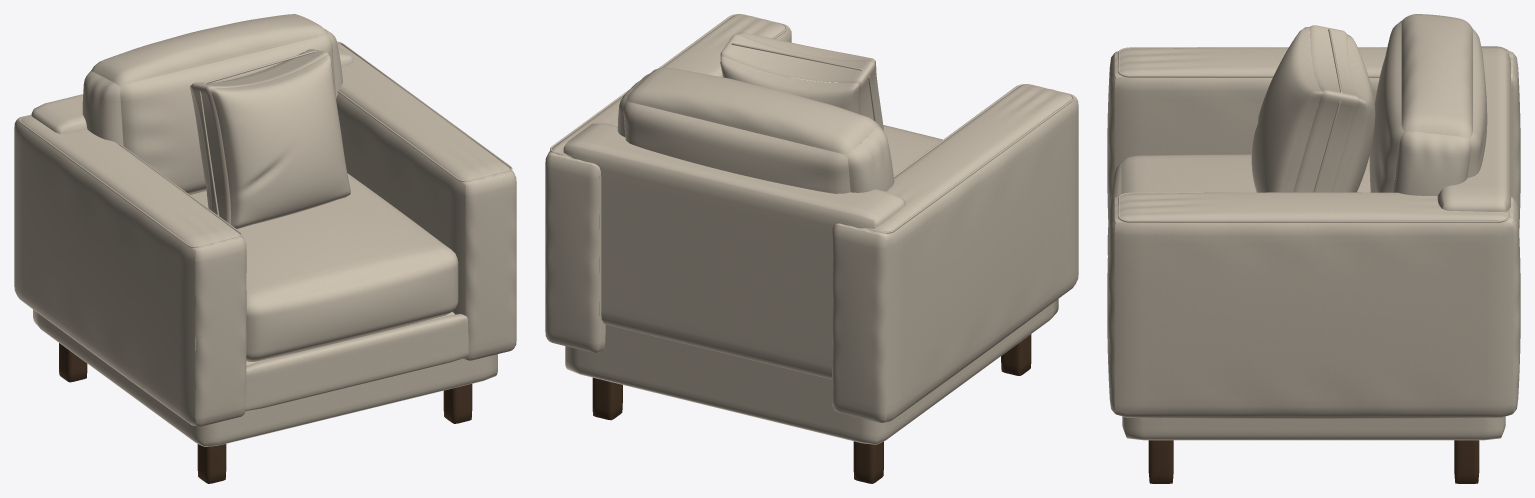
Rendered from armchair_sand_high.glb.
3 views of the same model, side by side, from view 1: azimuth 30°, elevation 25°; view 2: azimuth 150°, elevation 25°; view 3: azimuth 270°, elevation 25° (orthographic). The views are drawn at different scales.
Visible parts, largest first — view 1: arm_-1, seat_cushion, arm_1, loose_pillow_1, back_cushion, front_apron, upholstered_base, walnut_foot (×3), back_frame, arm_welt_-1, arm_welt_1, pillow_welt; view 2: arm_-1, back_frame, back_cushion, upholstered_base, arm_1, loose_pillow_1, walnut_foot (×3), seat_cushion, arm_welt_-1, arm_welt_1; view 3: arm_1, arm_-1, back_cushion, loose_pillow_1, upholstered_base, back_frame, seat_cushion, walnut_foot (×2), arm_welt_1, arm_welt_-1, pillow_welt.
Part boxes in pixels (<box>): arm_-1: <box>14,115,246,426</box>; seat_cushion: <box>190,173,458,361</box>; arm_1: <box>335,42,516,360</box>; loose_pillow_1: <box>190,49,350,228</box>; back_cushion: <box>82,14,342,194</box>; front_apron: <box>245,314,468,410</box>; upholstered_base: <box>33,309,497,446</box>; walnut_foot (×3): <box>59,343,472,483</box>; back_frame: <box>31,46,353,133</box>; arm_welt_-1: <box>18,114,241,247</box>; arm_welt_1: <box>337,41,512,181</box>; pillow_welt: <box>199,50,316,215</box>; arm_-1: <box>832,84,1078,422</box>; back_frame: <box>563,123,905,379</box>; back_cushion: <box>617,67,894,193</box>; upholstered_base: <box>565,299,1058,444</box>; arm_1: <box>545,14,791,352</box>; loose_pillow_1: <box>720,32,883,143</box>; walnut_foot (×3): <box>592,334,1031,483</box>; seat_cushion: <box>883,125,942,175</box>; arm_welt_-1: <box>864,84,1073,233</box>; arm_welt_1: <box>550,14,787,157</box>; arm_1: <box>1107,192,1520,418</box>; arm_-1: <box>1107,47,1520,229</box>; back_cushion: <box>1369,14,1487,195</box>; loose_pillow_1: <box>1251,25,1375,192</box>; upholstered_base: <box>1122,416,1505,440</box>; back_frame: <box>1437,46,1510,212</box>; seat_cushion: <box>1107,154,1395,254</box>; walnut_foot (×2): <box>1148,440,1479,483</box>; arm_welt_1: <box>1118,192,1509,222</box>; arm_welt_-1: <box>1118,47,1509,77</box>; pillow_welt: <box>1313,29,1342,192</box>.
Bounding box in the file's own units: 0.92 × 0.86 × 0.9.
3 materials, 1 textured.
